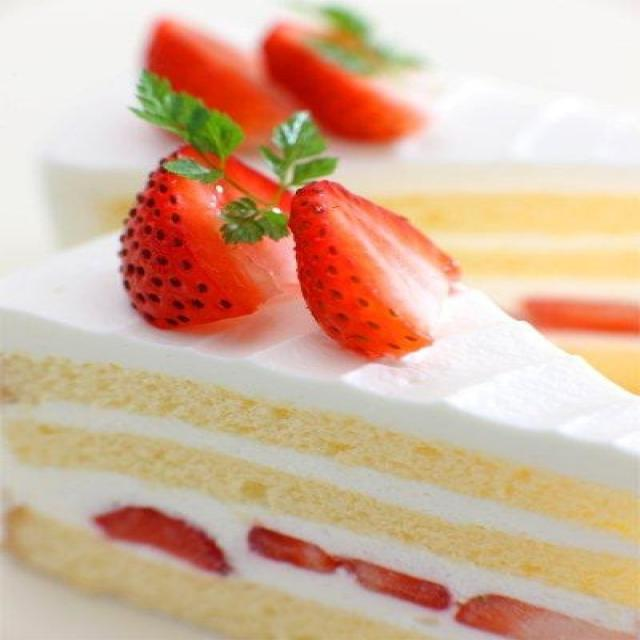蛋糕甜品: (5, 26, 635, 632)
